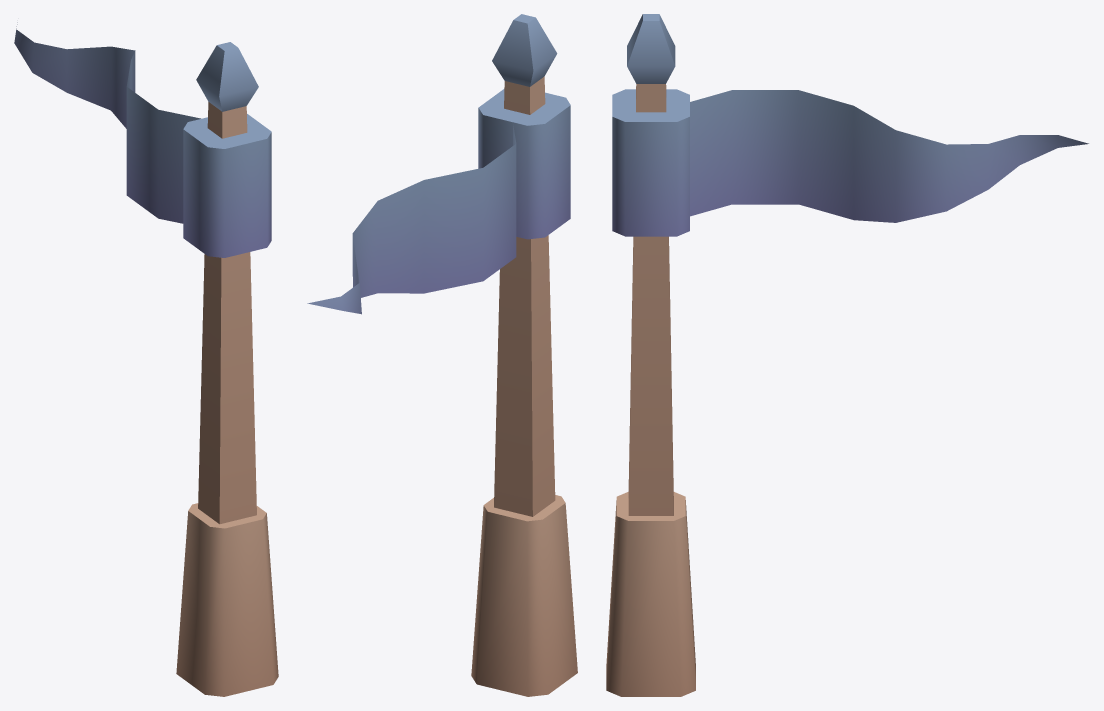
File: flag-pennant.glb
3 renders of one model, left to right at view 1: azimuth 30°, elevation 25°; view 2: azimuth 150°, elevation 25°; view 3: azimuth 270°, elevation 25°, orthographic. The views are drawn at different scales.
Parts seen in each view (by area): view 1: flag-pennant; view 2: flag-pennant; view 3: flag-pennant.
Part boxes in pixels (x1=…): flag-pennant: x1=14, y1=22, x2=278, y2=696; flag-pennant: x1=307, y1=14, x2=577, y2=696; flag-pennant: x1=606, y1=14, x2=1088, y2=696.
Size of the model in its own units: 0.1064 by 0.8656 by 0.5739.
